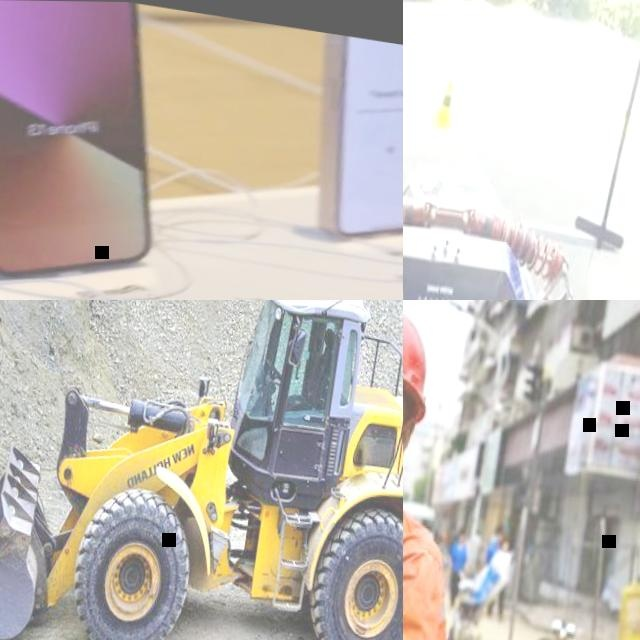Hardhat: (403, 300, 440, 418)
NO-Hardhat: (494, 524, 503, 533), (460, 529, 468, 536), (503, 535, 509, 542)
NO-Safety Vest: (445, 527, 471, 604), (465, 537, 482, 565), (451, 545, 467, 570), (496, 549, 512, 573), (486, 539, 497, 562)
Person: (403, 300, 510, 640), (486, 533, 517, 620), (462, 524, 487, 577), (484, 523, 504, 567)
Safety Cone: (428, 66, 473, 126)
machinery: (0, 300, 403, 640)
vehicle: (403, 0, 640, 300)
